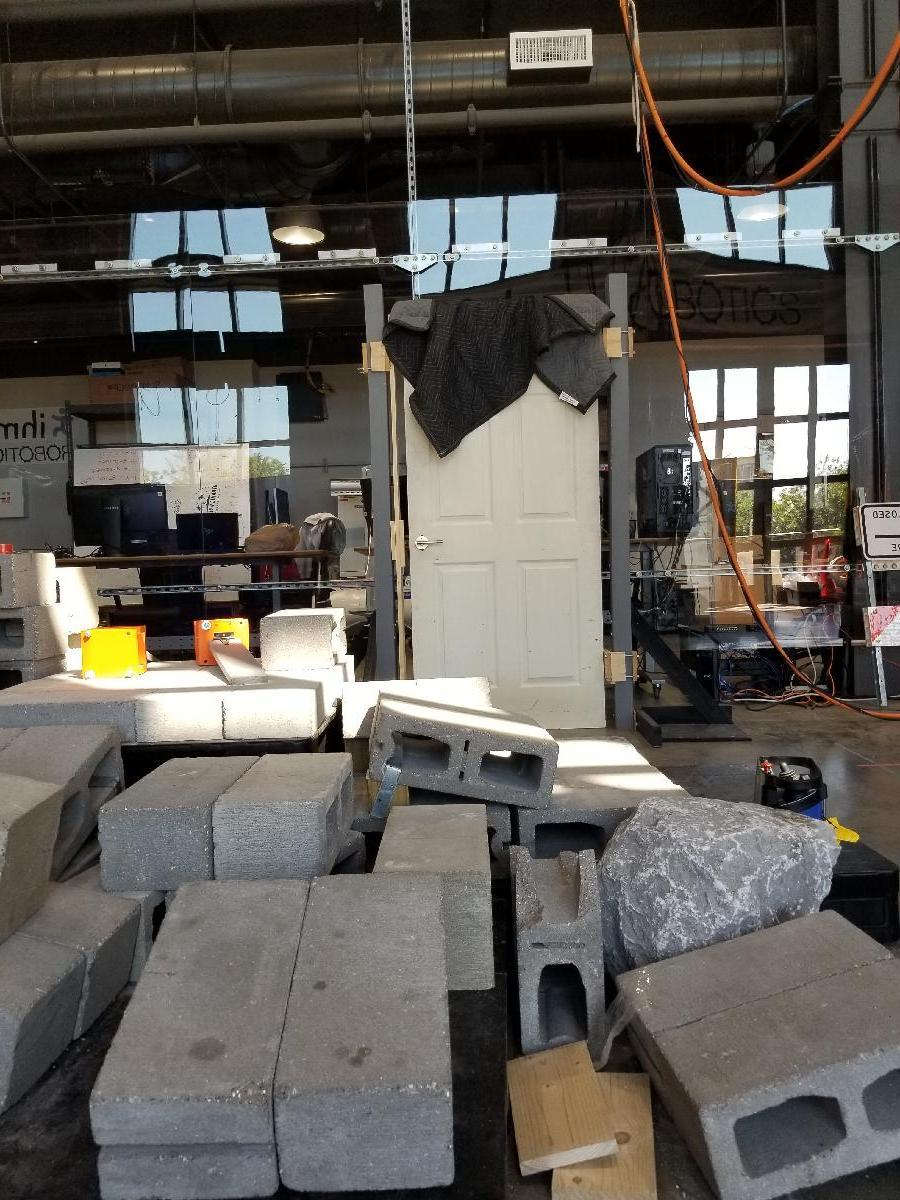door: (406, 326, 594, 733)
handle: (412, 534, 445, 552)
